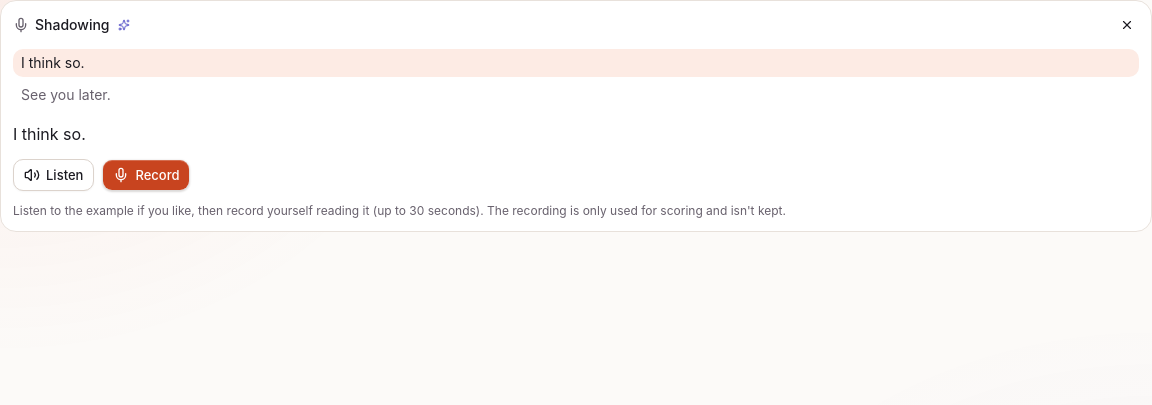
Test: ShadowingPanel › says when a reading didn't count toward speaking
Click the button with test id "shadowing-record".
click(146, 175)  # box [102,159,190,191]
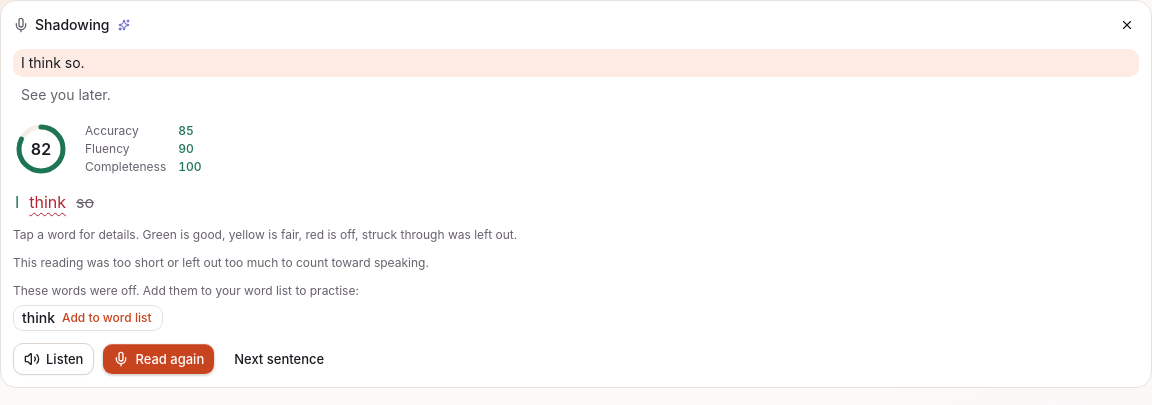
Expected: the text "too short or left out too much" is shown, [13,255,429,270]
